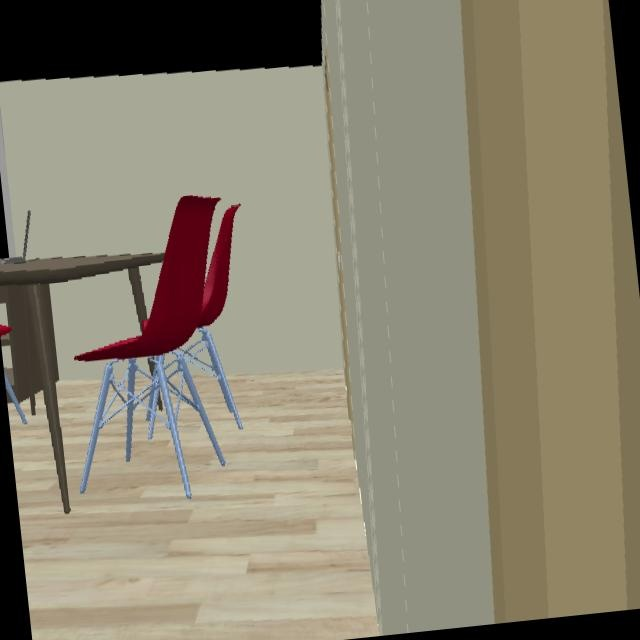chair: (73, 196, 240, 498), (197, 206, 243, 430), (176, 355, 225, 467), (124, 367, 143, 464), (4, 372, 26, 425), (0, 323, 11, 338)
laptop: (0, 210, 31, 264)
table: (0, 255, 163, 514)
